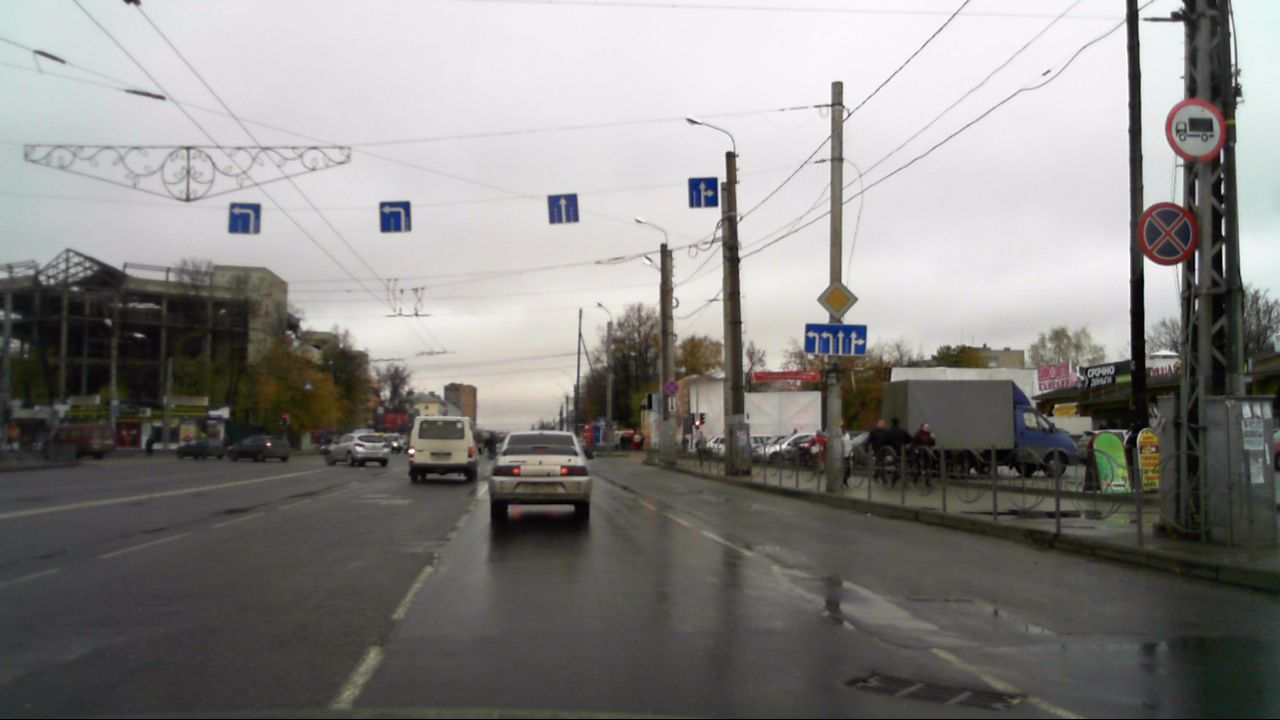No Parking: (1136, 202, 1197, 265)
